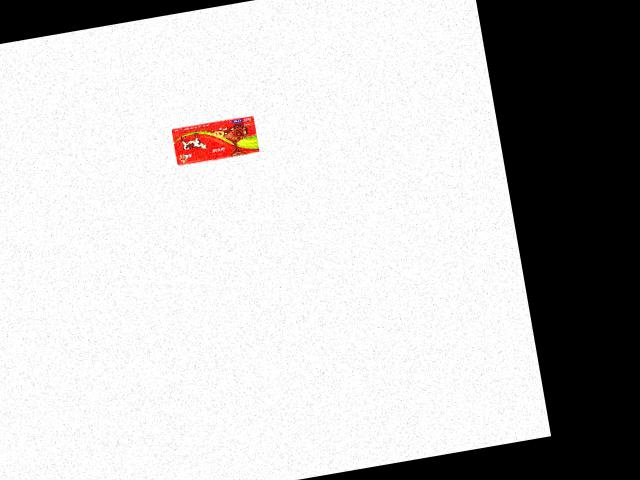chocolate: (164, 107, 261, 169)
